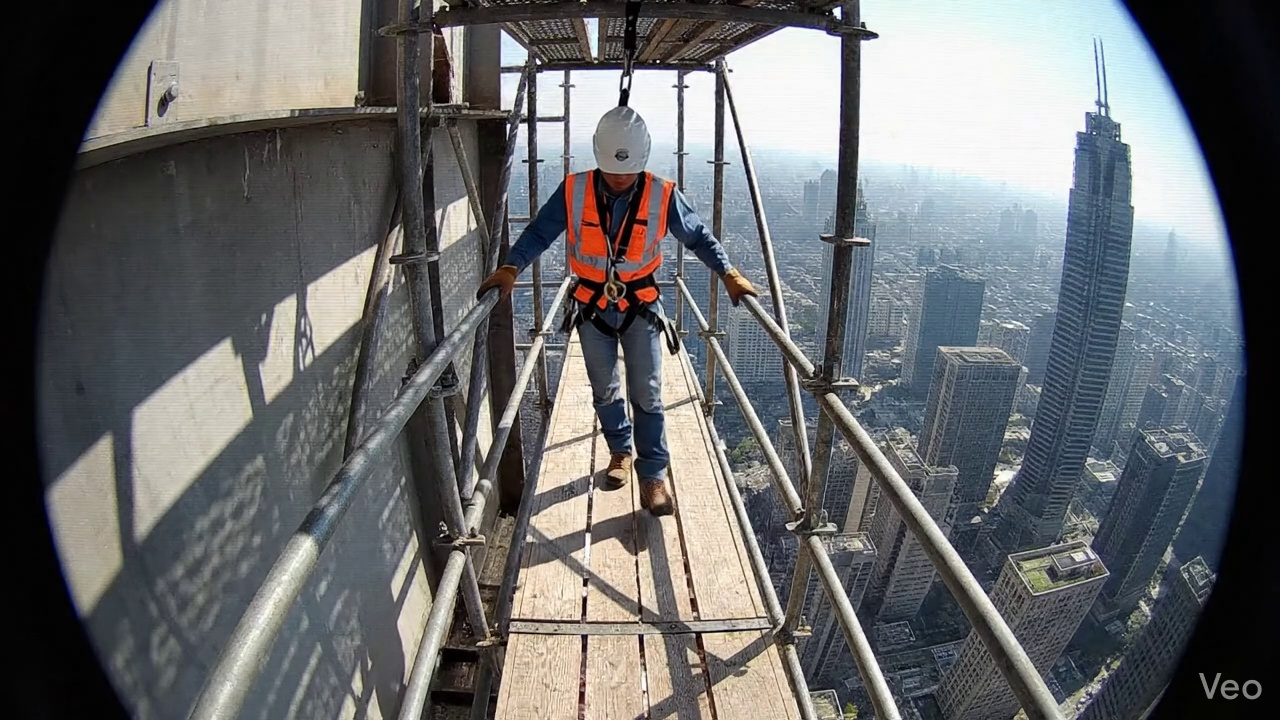person: (477, 104, 755, 515), (622, 92, 627, 100)
